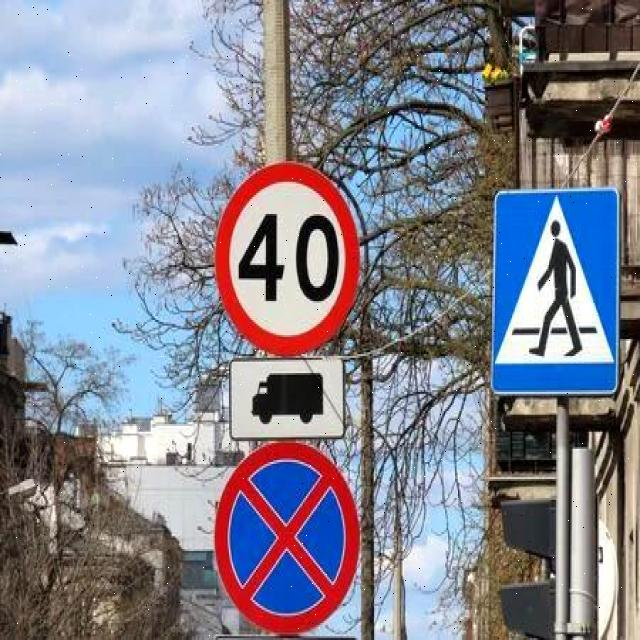speed limit 40: (217, 163, 358, 351)
